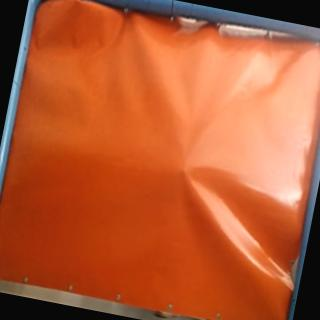Hit-hRxx: (176, 162, 191, 176)
